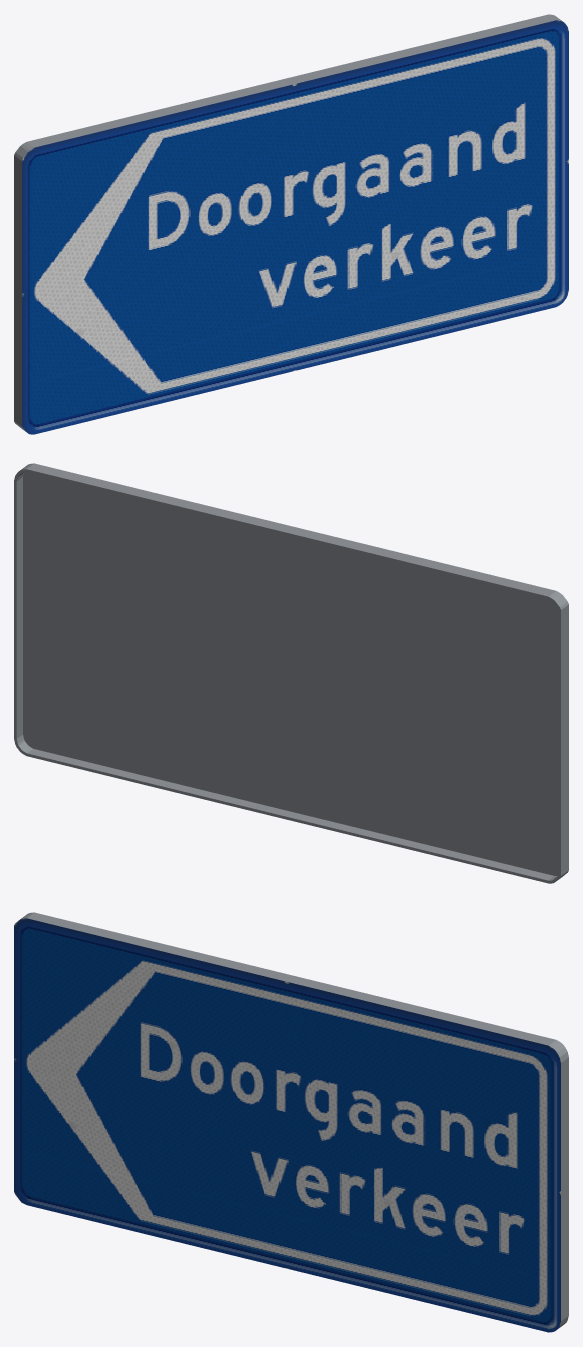
3 renders of one model, top to bottom at view 1: azimuth 30°, elevation 25°; view 2: azimuth 150°, elevation 25°; view 3: azimuth 330°, elevation 25°, orthographic.
Parts seen in each view (by area): view 1: cat_b074b6b47a0d1e0a; view 2: cat_b074b6b47a0d1e0a; view 3: cat_b074b6b47a0d1e0a.
Part boxes in pixels (box(x1,y1,x2,y2)): cat_b074b6b47a0d1e0a: box(14, 14, 568, 434); cat_b074b6b47a0d1e0a: box(14, 463, 568, 883); cat_b074b6b47a0d1e0a: box(14, 912, 568, 1332).
Bounding box in the file's own units: 0.6 × 0.015 × 0.3007.
2 materials, 1 textured.
